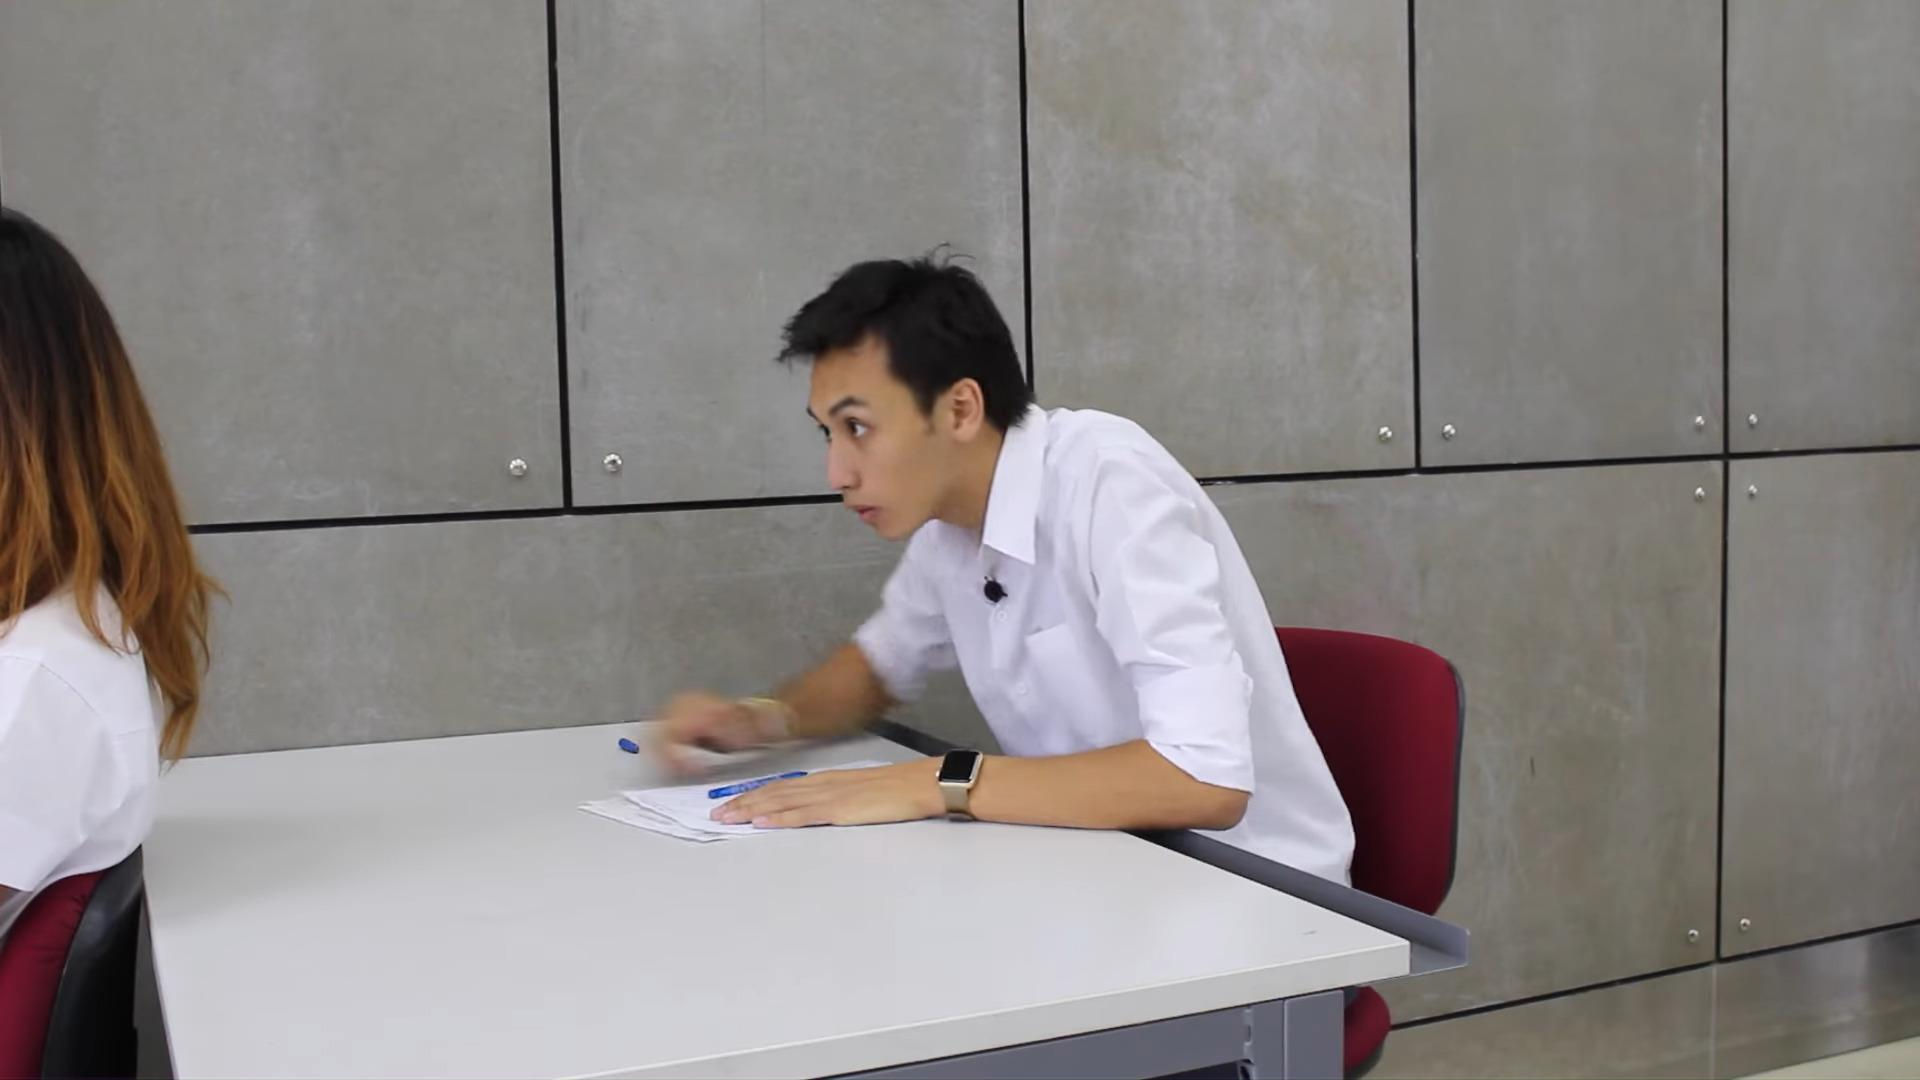cheating: (560, 231, 1389, 910)
